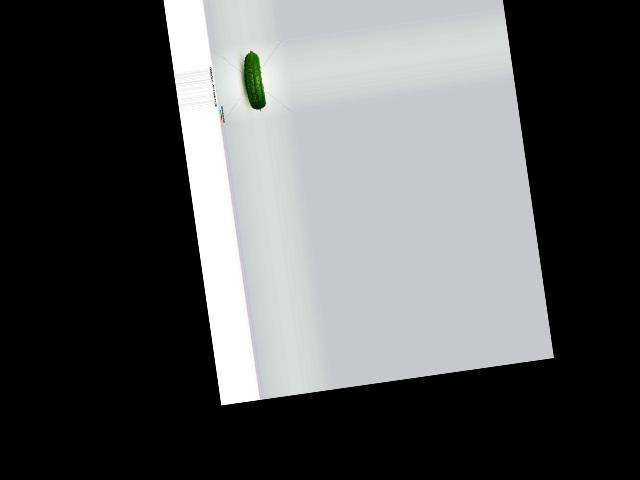cucumber: (240, 49, 266, 112)
